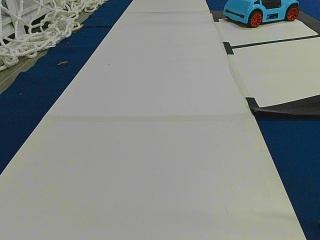car: (224, 0, 299, 26)
